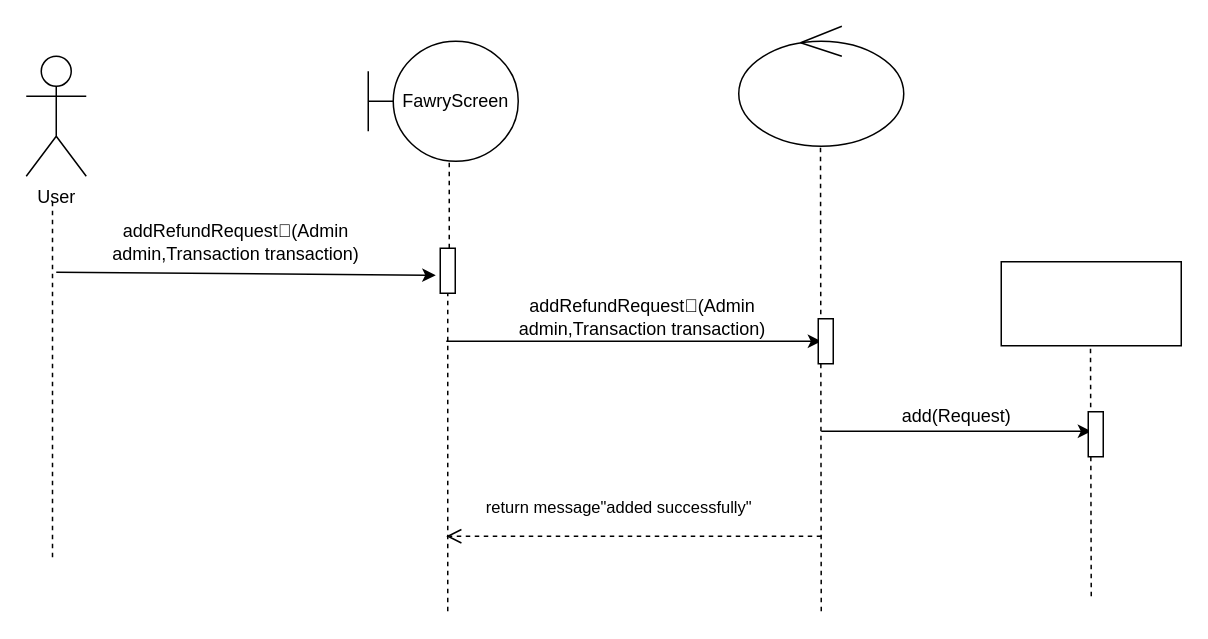
Image size: 1208x639. Some labels were removed from this diagram. The box of each missing label's shape, as (x1, y1, x2, y2) in pixels:
Database: (1000, 260, 1181, 346)
RefundController: (737, 25, 904, 146)
